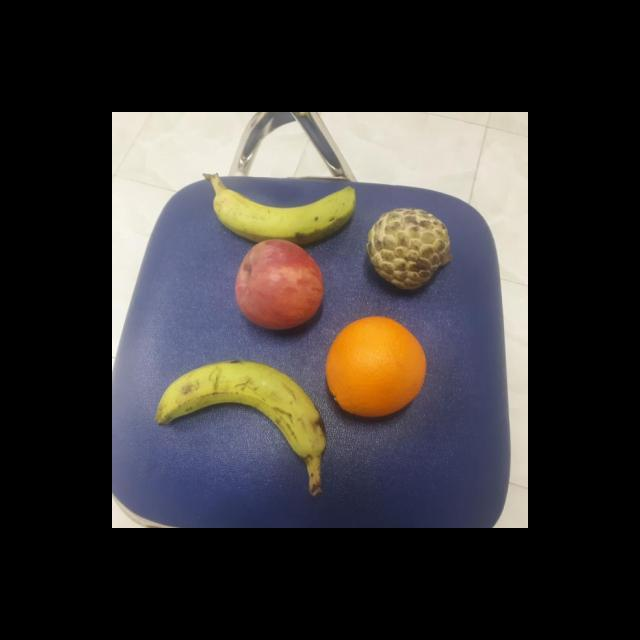Sakya fruit: (363, 205, 453, 290)
apple: (230, 238, 326, 332)
banana: (152, 358, 328, 462), (212, 179, 366, 243)
orange: (323, 314, 432, 418)
